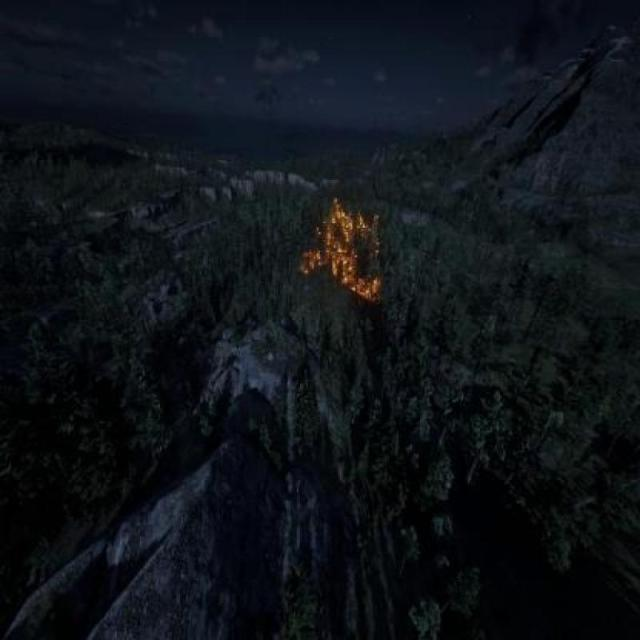Fire: (302, 198, 384, 312)
